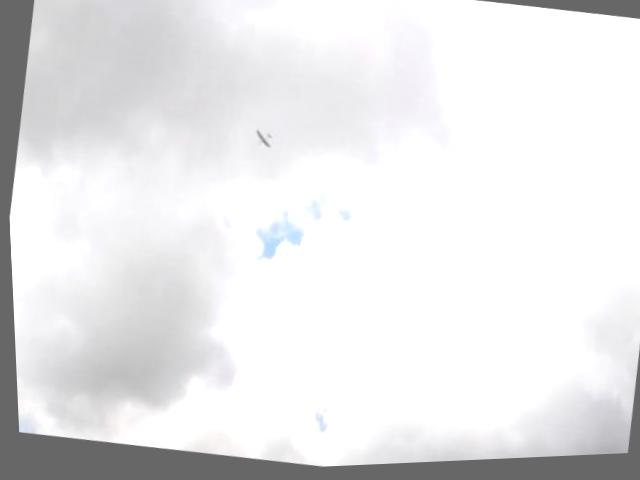iha: (251, 132, 272, 153)
